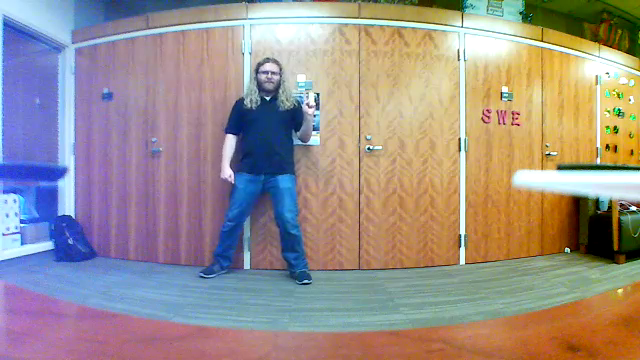up: (298, 86, 320, 119)
